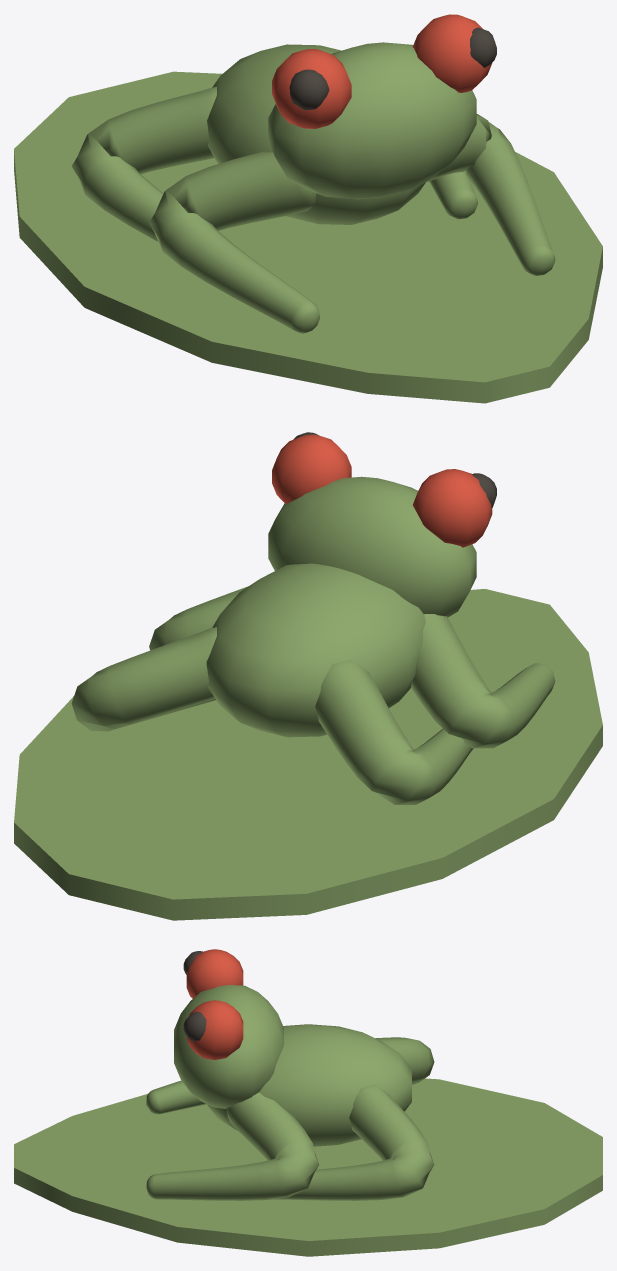
The model's file is rainforest-and-jungle-fauna-red-eyed-tree-frog-on-leaf-54cc9e9f__21693.glb.
3 views of the same model, one above another, from view 1: azimuth 30°, elevation 25°; view 2: azimuth 150°, elevation 25°; view 3: azimuth 270°, elevation 25° (orthographic). The views are drawn at different scales.
Parts seen in each view (by area): view 1: red-eyed-tree-frog-on-leaf; view 2: red-eyed-tree-frog-on-leaf; view 3: red-eyed-tree-frog-on-leaf.
Boxes of the visible parts, x1,y1,x2,y2 form: red-eyed-tree-frog-on-leaf: [14, 14, 602, 403]; red-eyed-tree-frog-on-leaf: [14, 432, 602, 920]; red-eyed-tree-frog-on-leaf: [14, 949, 602, 1256].
Bounding box in the file's own units: 0.1094 × 0.0582 × 0.16.
